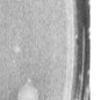white: (17, 84, 40, 100)
